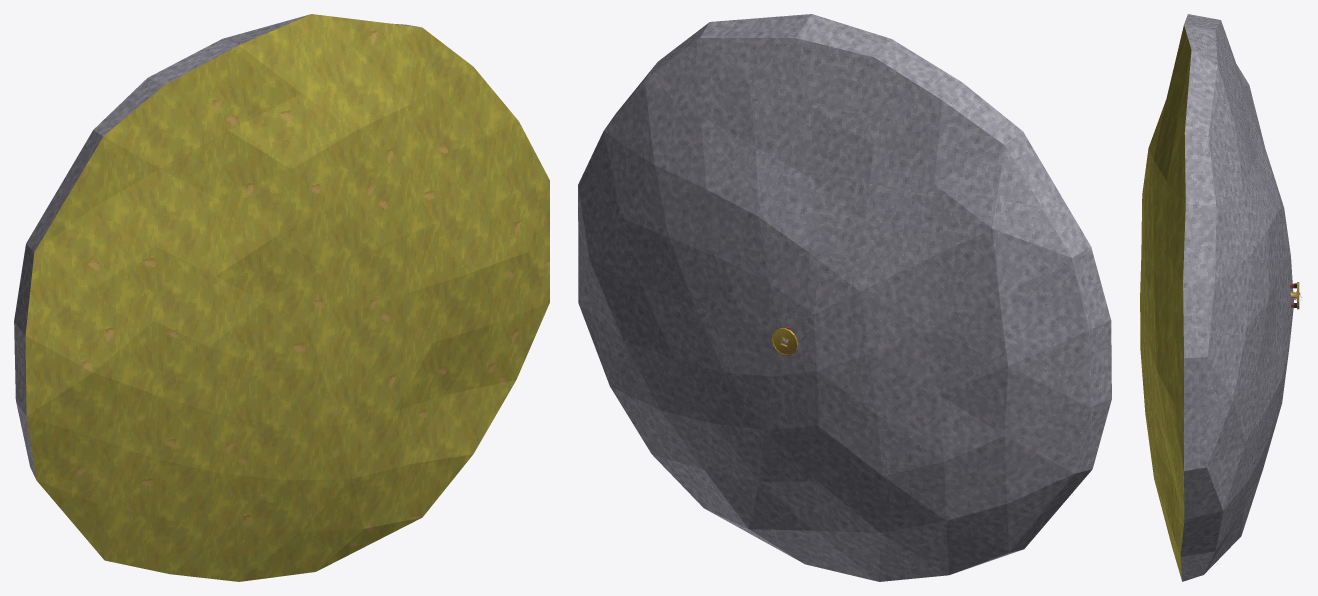
The model's file is low-poly-bonsai-garden-f07b81.glb.
3 renders of one model, left to right at view 1: azimuth 30°, elevation 25°; view 2: azimuth 150°, elevation 25°; view 3: azimuth 270°, elevation 25°, orthographic. The views are drawn at different scales.
Parts seen in each view (by area): view 1: PropMesh; view 2: PropMesh; view 3: PropMesh.
Boxes of the visible parts, x1,y1,x2,y2 form: PropMesh: [14, 14, 549, 581]; PropMesh: [578, 14, 1111, 581]; PropMesh: [1140, 14, 1301, 581].
Bounding box in the file's own units: 2.2 × 2.2 × 0.6401.
80 materials, 80 textured.
